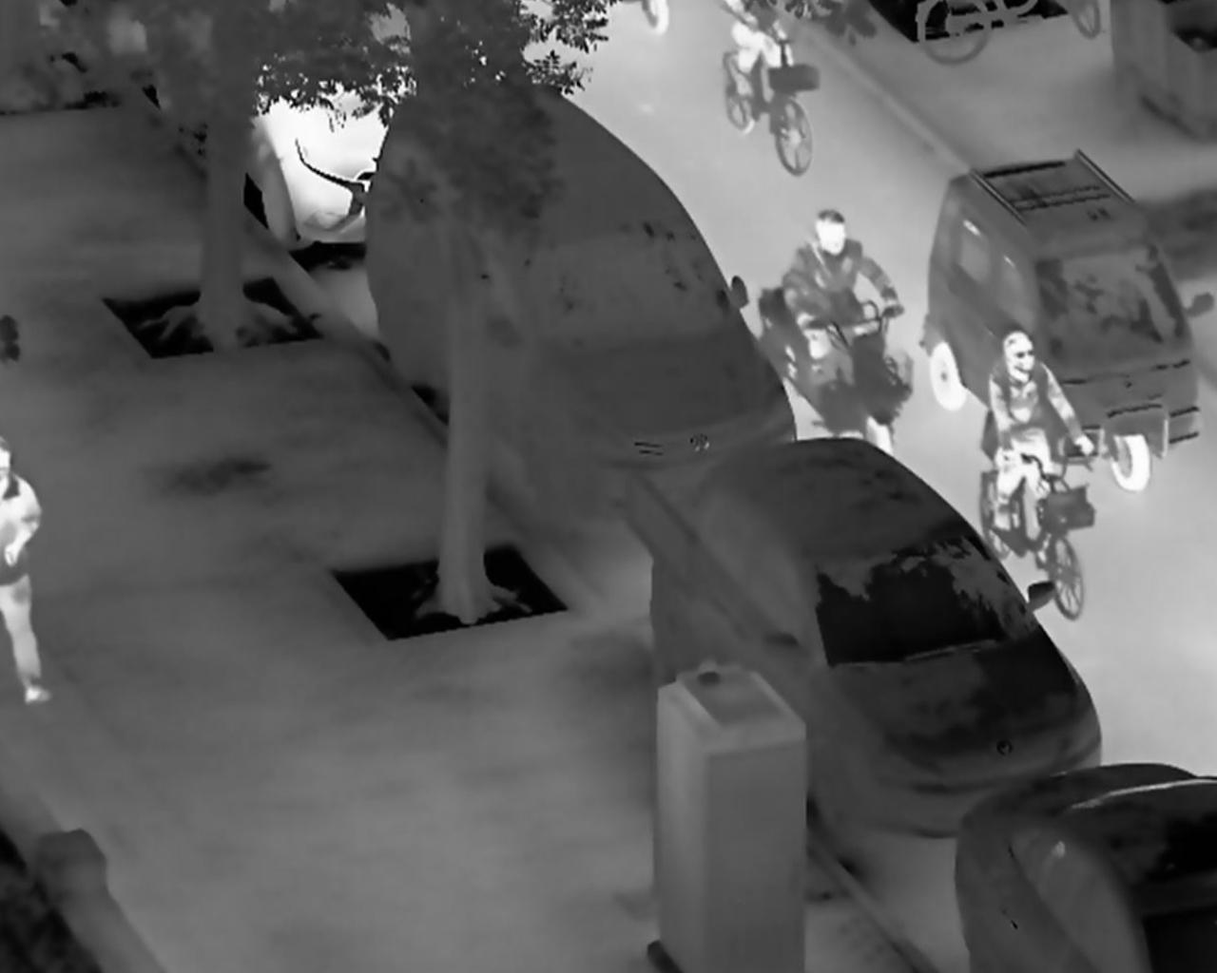person: (779, 207, 907, 403), (986, 330, 1097, 536)
